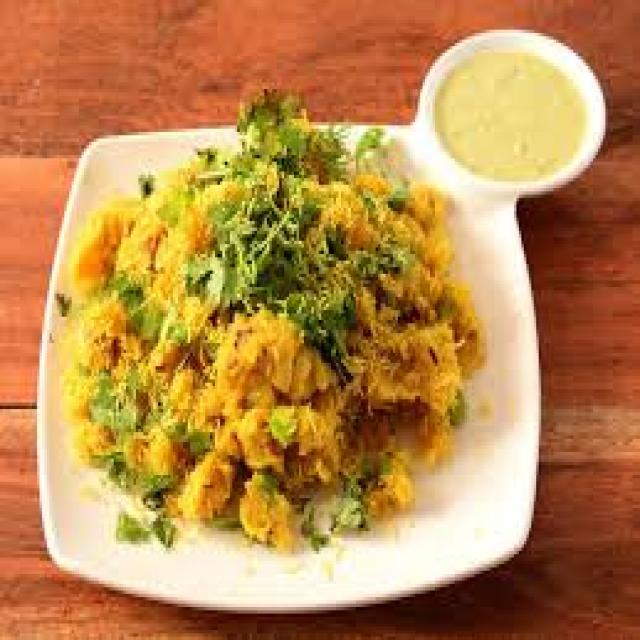POHA: (57, 92, 472, 538)
